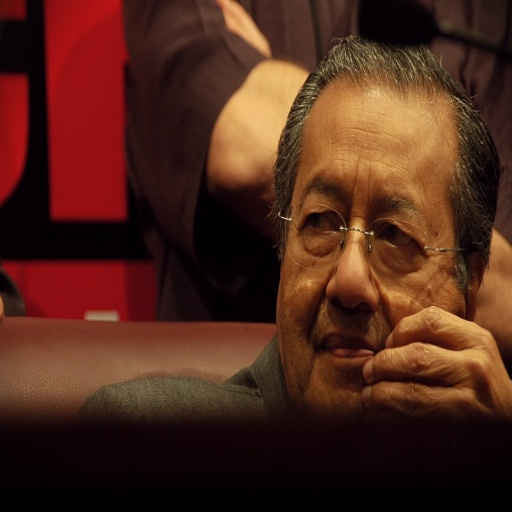hand: (332, 286, 512, 430)
